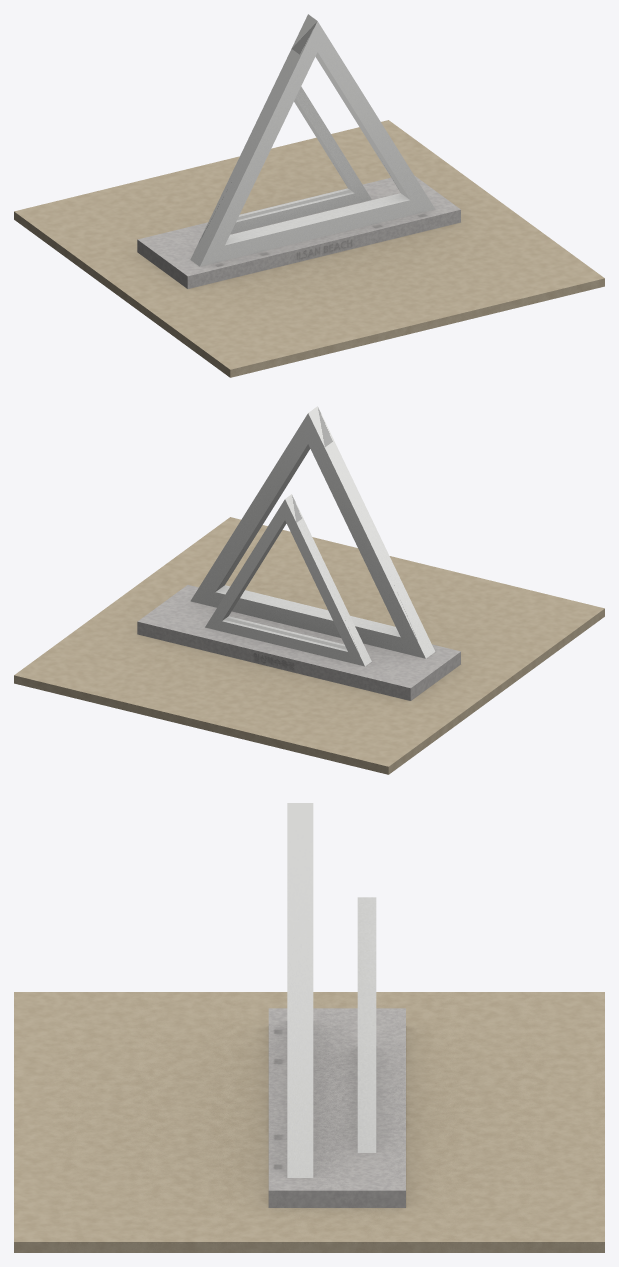
Rendered from IlsanBeachLandmark_LOD2.fbx.
3 renders of one model, top to bottom at view 1: azimuth 30°, elevation 25°; view 2: azimuth 150°, elevation 25°; view 3: azimuth 270°, elevation 25°, orthographic. The views are drawn at different scales.
Parts seen in each view (by area): view 1: IlsanBeachLandmark_LOD2; view 2: IlsanBeachLandmark_LOD2; view 3: IlsanBeachLandmark_LOD2.
Part boxes in pixels (left/top/right/bottom): IlsanBeachLandmark_LOD2: left=14, top=14, right=604, bottom=377; IlsanBeachLandmark_LOD2: left=14, top=406, right=604, bottom=774; IlsanBeachLandmark_LOD2: left=14, top=803, right=604, bottom=1252.
Bounding box in the file's own units: 15.9 × 9.65 × 15.9.
1 material, 1 textured.
